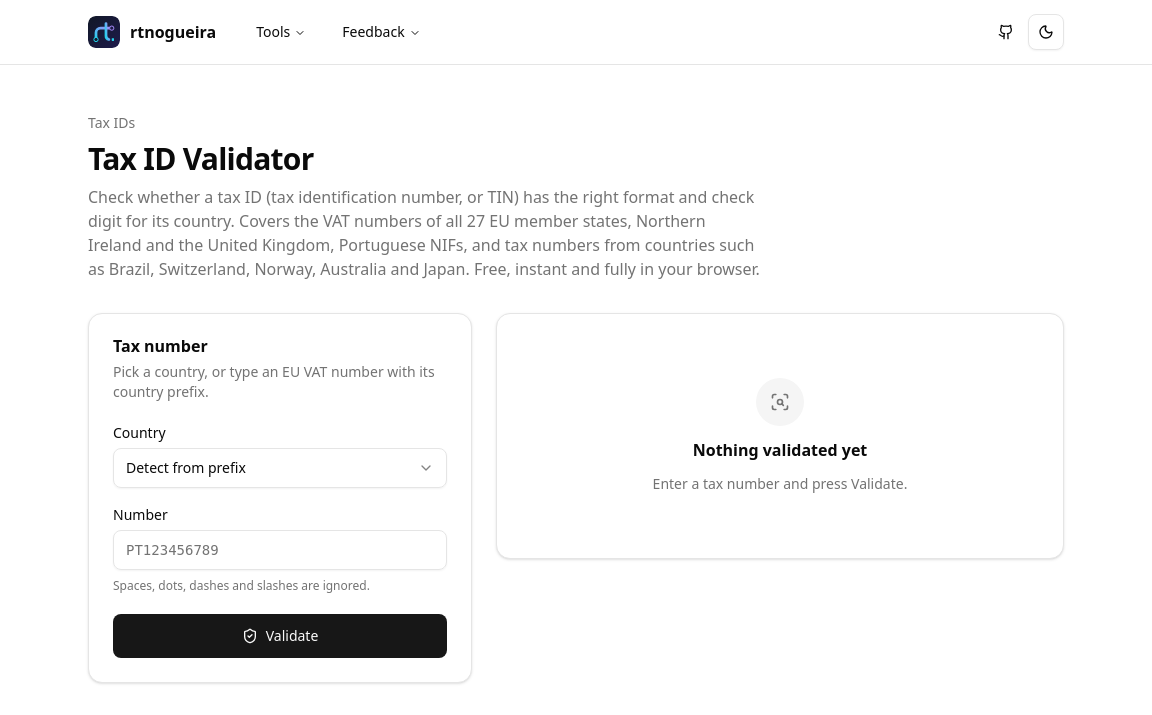
Scenario: Tax ID validator page › verifies the Portuguese check digit for the selected country
The width and height of the screenshot is (1152, 715).
Check: the heading "Tax ID Validator" is shown, box [88,138,314,179]
Step 1. Click the dropdown named "Country" → (186, 468), box [113,448,447,488]
(page scrolled)
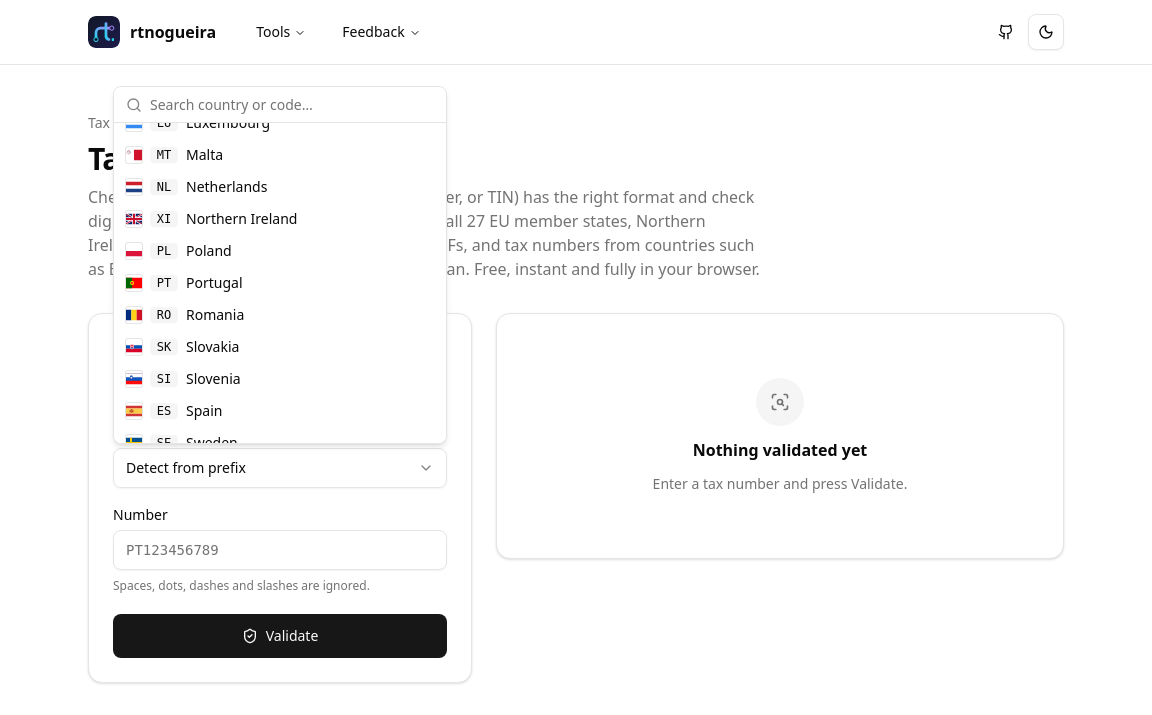
Step 2. Click the option "PT Portugal" → (184, 282), box [126,273,242,292]
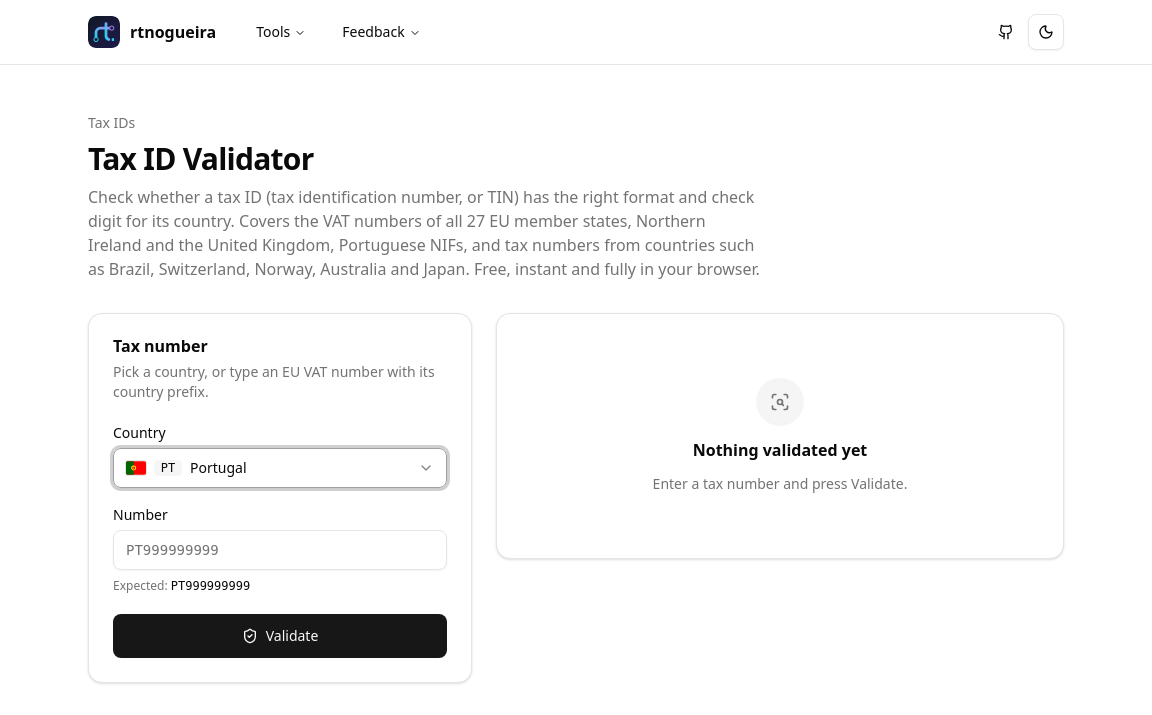
Check: the text "Expected: PT999999999" is shown, box [113,577,250,594]
Step 3. Type "123456789" into the field labelled "Number" → (280, 550), box [113,530,447,570]
Then press Enter
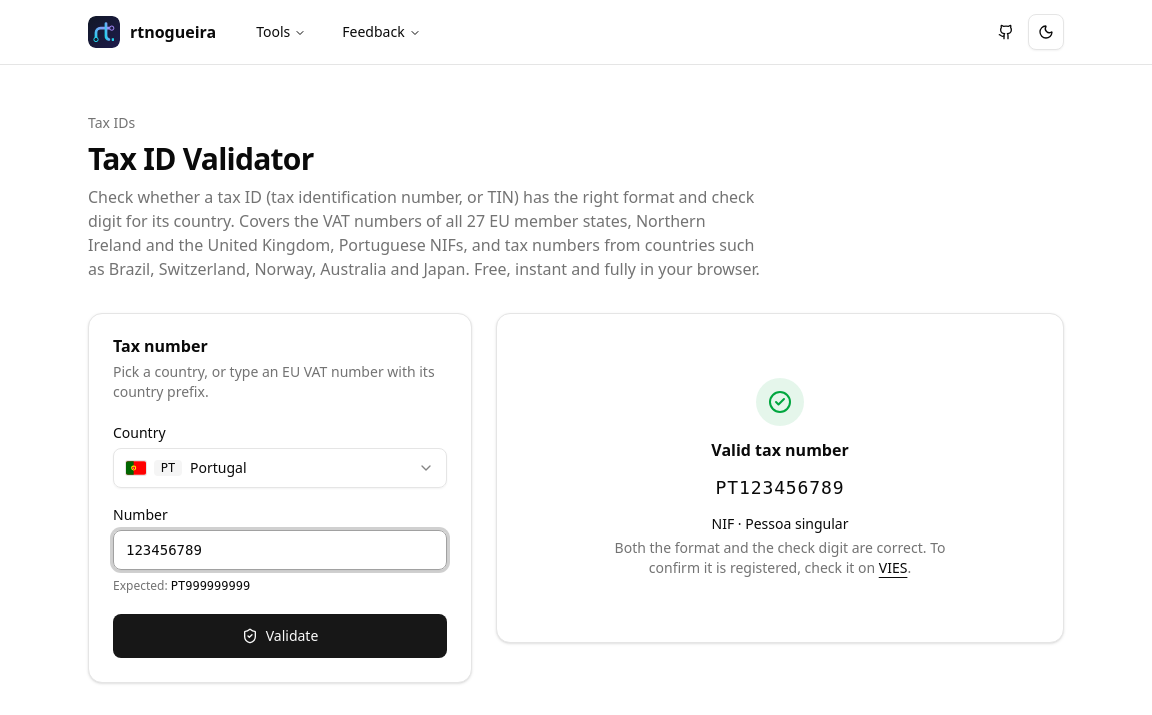
Check: the text "Valid tax number" is shown, box [711,438,849,462]
Step 4. Replace the text in the field labelled "Number" with "123456788" → (280, 550), box [113,530,447,570]
Then press Enter
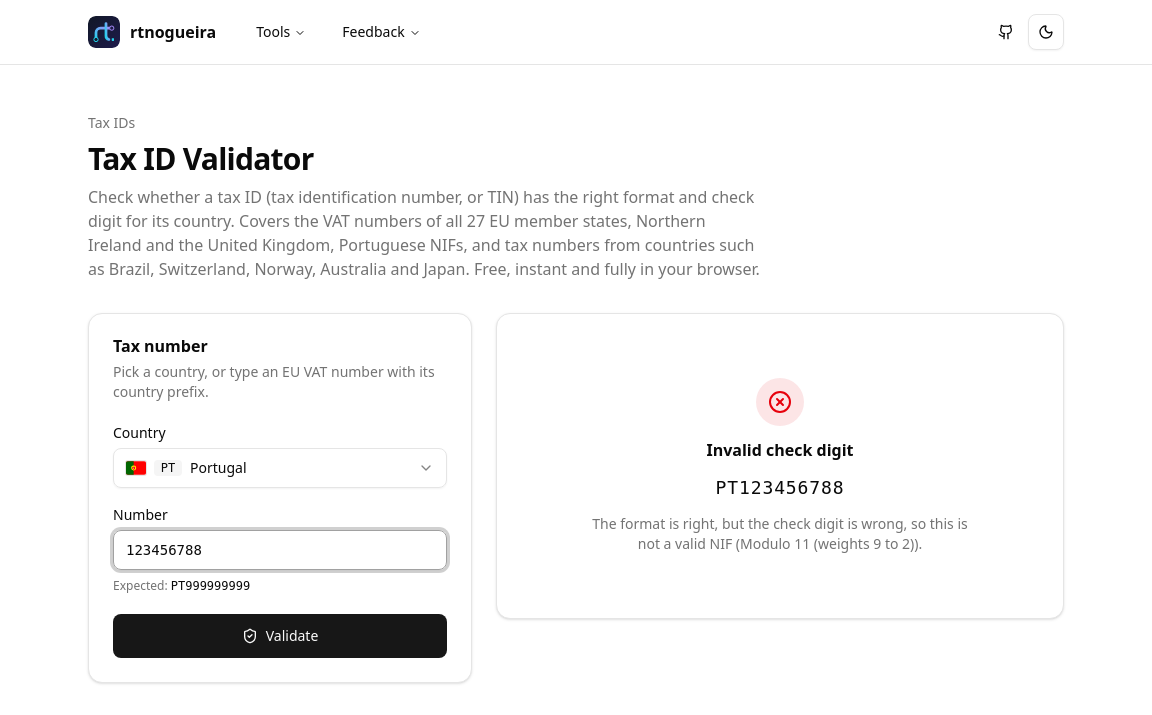
Check: the text "Invalid check digit" is shown, box [706,438,854,462]
